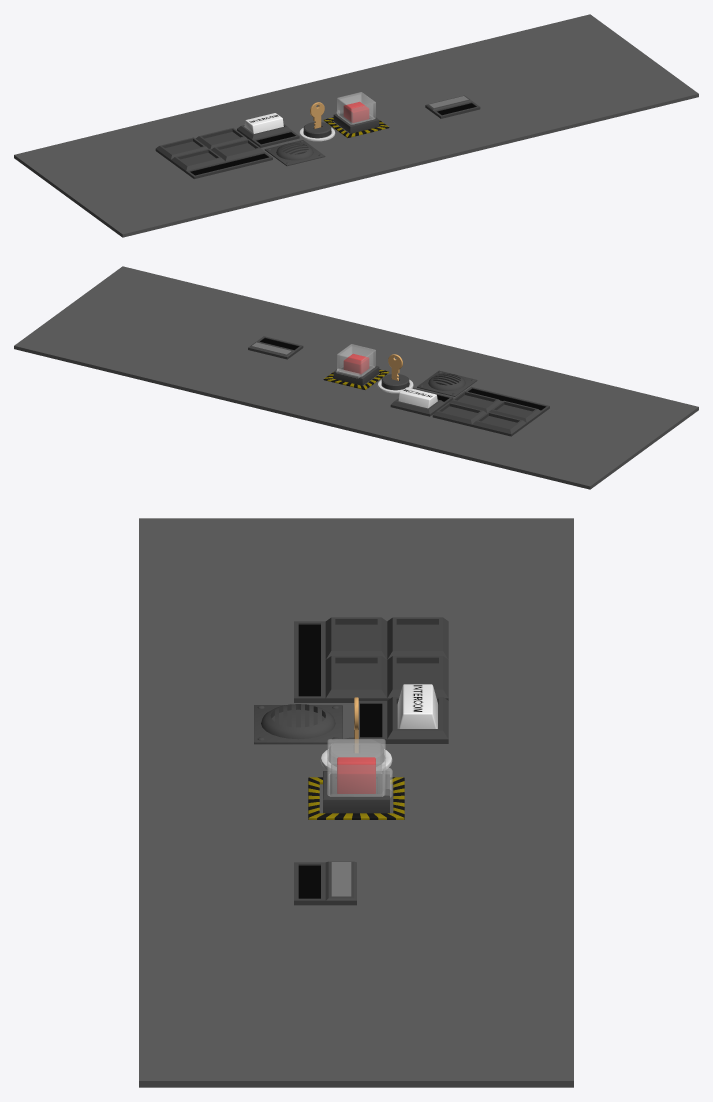
3 renders of one model, top to bottom at view 1: azimuth 30°, elevation 25°; view 2: azimuth 150°, elevation 25°; view 3: azimuth 270°, elevation 25°, orthographic. The views are drawn at different scales.
Visible parts, largest first — view 1: Surface, 4ButtonFram, MollyGuard, Mic, ExecuteBase, SingleButtonFrame, DataField, Key, Button, ExecuteButton; view 2: Surface, 4ButtonFram, MollyGuard, Mic, ExecuteBase, DataField, Key, SingleButtonFrame, Button, ExecuteButton; view 3: Surface, 4ButtonFram, MollyGuard, Mic, ExecuteBase, DataField, SingleButtonFrame, Button, ExecuteButton, Key.
Boxes of the visible parts, x1,y1,x2,y2 form: Surface: (14, 14, 698, 237); 4ButtonFram: (155, 128, 272, 178); MollyGuard: (336, 92, 375, 124); Mic: (264, 140, 325, 166); ExecuteBase: (323, 113, 389, 137); SingleButtonFrame: (237, 124, 299, 147); DataField: (425, 95, 480, 118); Key: (303, 102, 331, 138); Button: (244, 113, 283, 133); ExecuteButton: (344, 102, 368, 122); Surface: (14, 266, 698, 489); 4ButtonFram: (432, 386, 549, 436); MollyGuard: (336, 344, 375, 378); Mic: (417, 370, 477, 396); ExecuteBase: (323, 365, 389, 389); DataField: (248, 336, 303, 359); Key: (381, 354, 409, 390); SingleButtonFrame: (390, 388, 453, 416); Button: (398, 387, 437, 408); ExecuteButton: (344, 354, 368, 374); Surface: (139, 518, 573, 1087); 4ButtonFram: (294, 617, 448, 702); MollyGuard: (327, 739, 392, 797); Mic: (254, 704, 342, 744); ExecuteBase: (308, 771, 404, 819); DataField: (294, 861, 356, 905); SingleButtonFrame: (358, 697, 448, 743); Button: (397, 684, 437, 728); ExecuteButton: (337, 757, 375, 793); Key: (329, 697, 383, 764).
Bounding box in the file's own units: 12536 × 719 × 4095.
